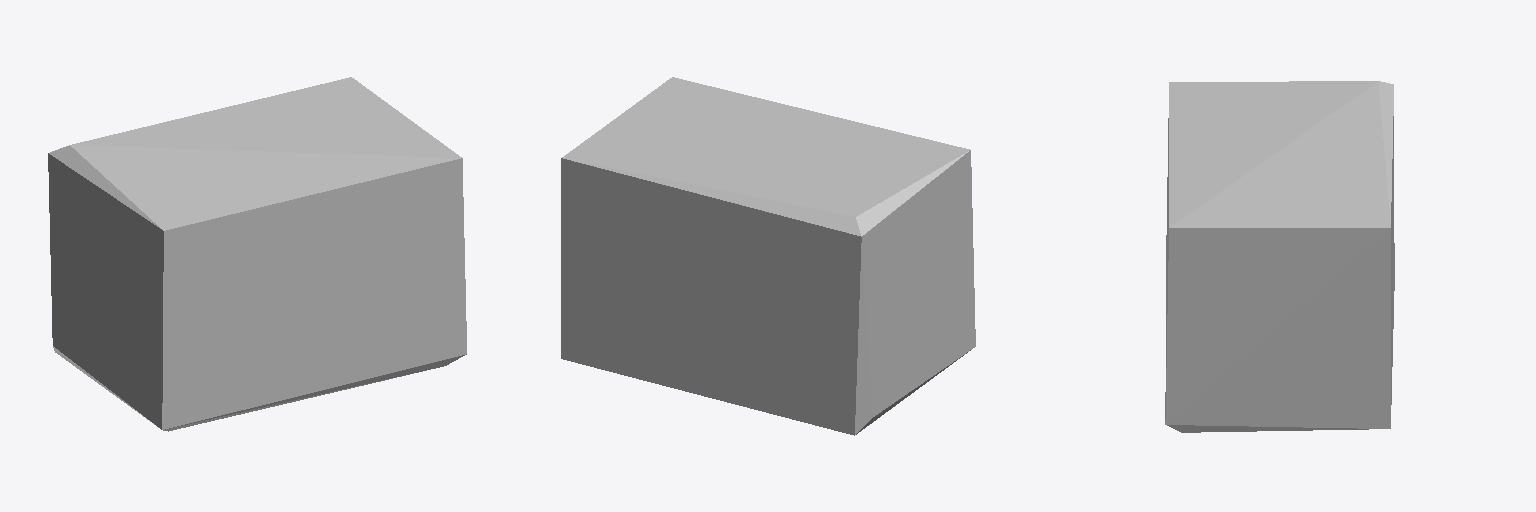
Rendered from chizbox_LOD2.obj.
3 views of the same model, side by side, from view 1: azimuth 30°, elevation 25°; view 2: azimuth 150°, elevation 25°; view 3: azimuth 270°, elevation 25° (orthographic).
Visible parts, largest first — view 1: Cube_Cube.002; view 2: Cube_Cube.002; view 3: Cube_Cube.002.
Part boxes in pixels (x1,y1,x2,y2): Cube_Cube.002: (48, 77, 466, 431); Cube_Cube.002: (561, 77, 975, 435); Cube_Cube.002: (1165, 81, 1394, 432).
Bounding box in the file's own units: 1.13 × 0.7566 × 0.7254.